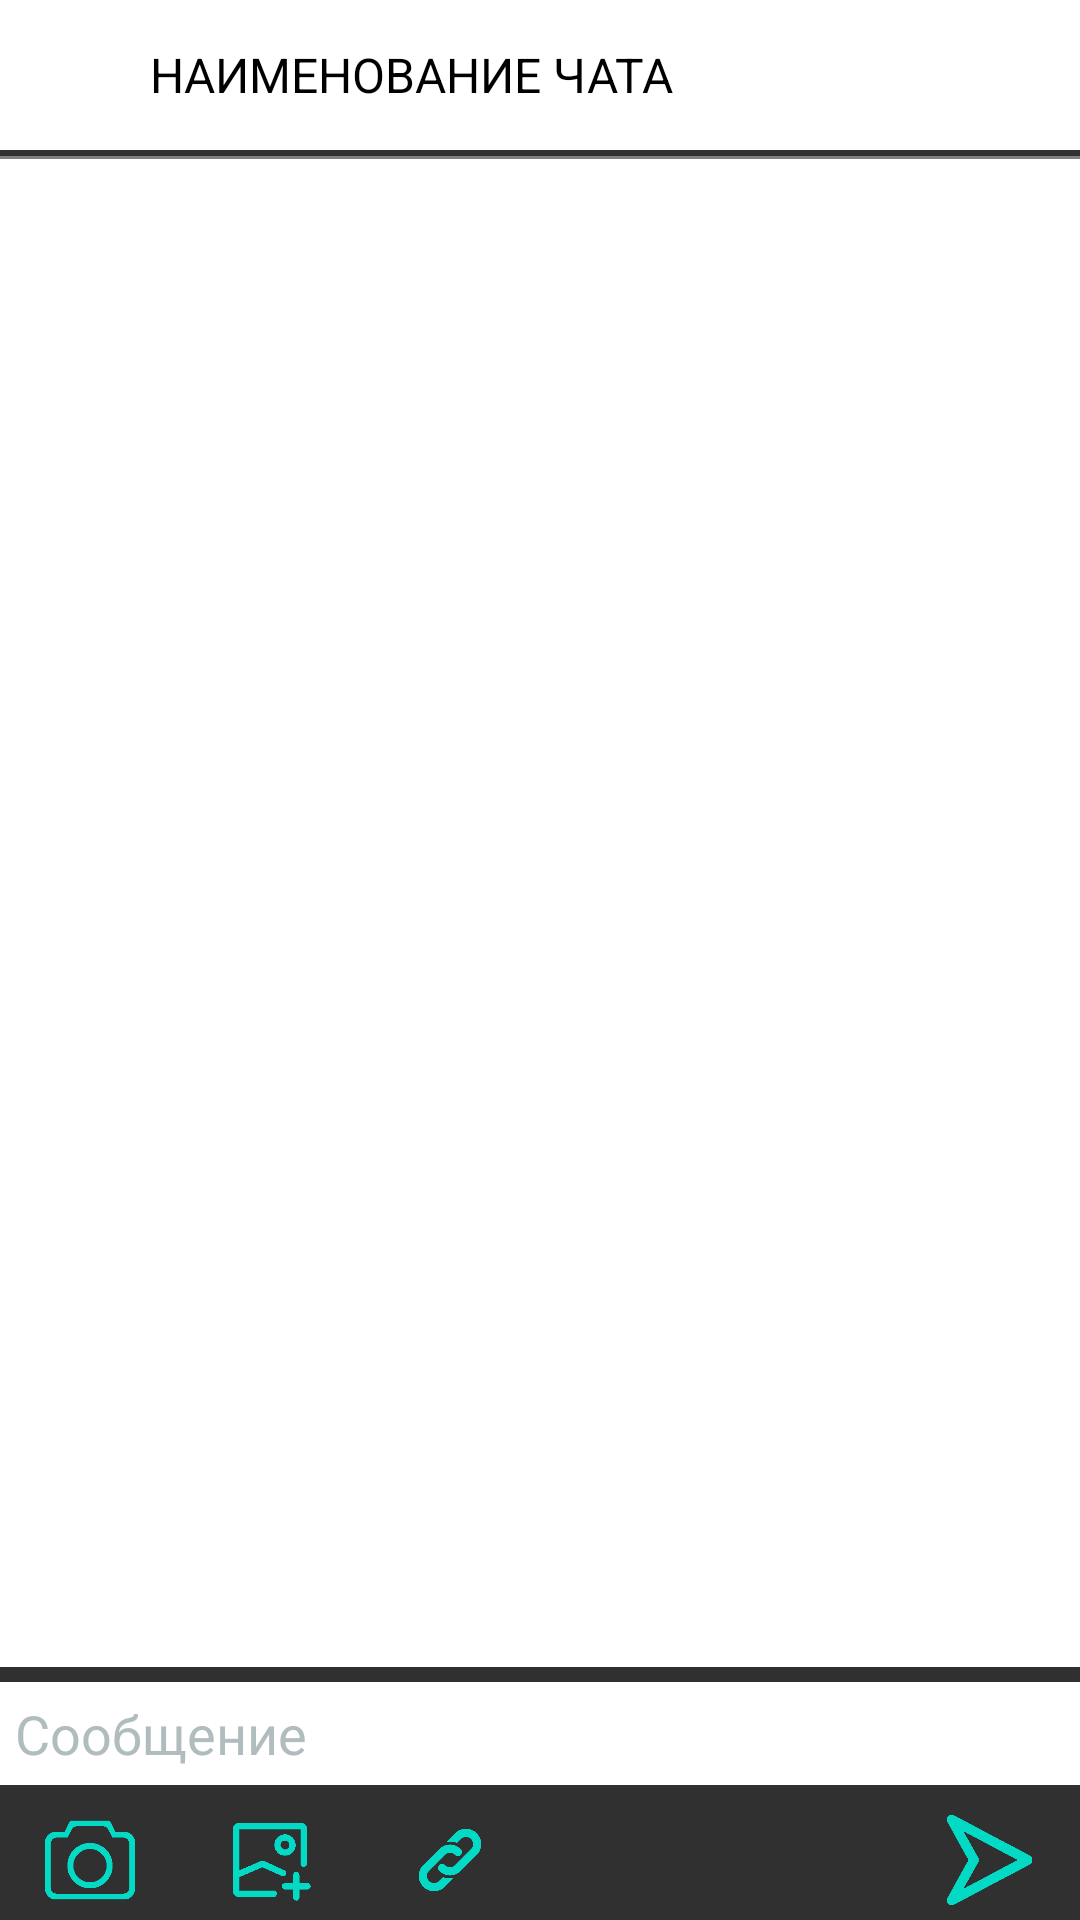

Locate icon controls on the screen. Image size 1080px x 1920px, boxes as Rect(x1, y1, x2, y2).
link: Rect(419, 1829, 481, 1891)
send: Rect(947, 1815, 1032, 1905)
